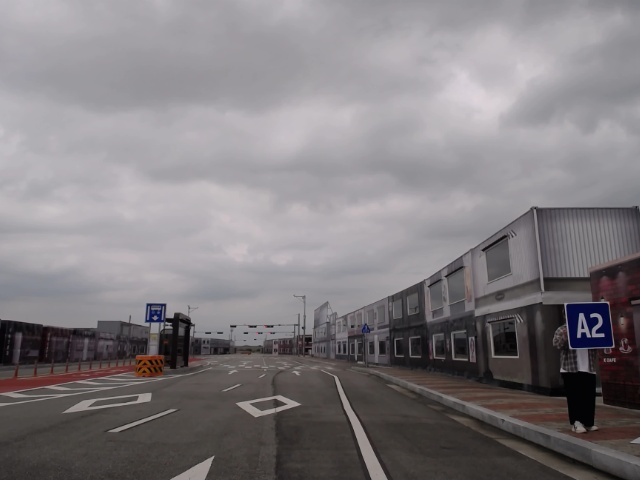delivery_a2: (565, 301, 613, 349)
